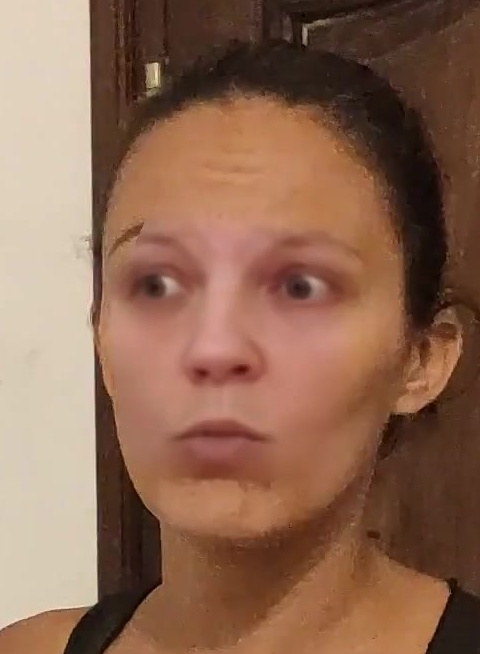eb_f: (101, 214, 379, 316)
